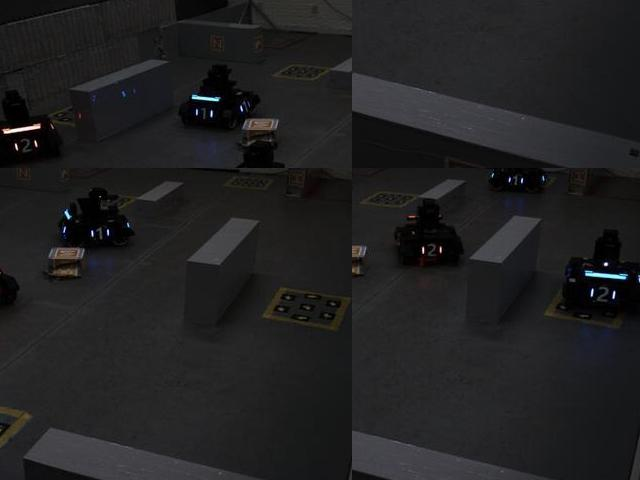armor: (584, 282, 621, 307), (8, 134, 42, 155), (89, 220, 113, 245), (192, 101, 217, 124), (418, 241, 445, 259), (505, 171, 527, 190), (236, 97, 252, 118)
